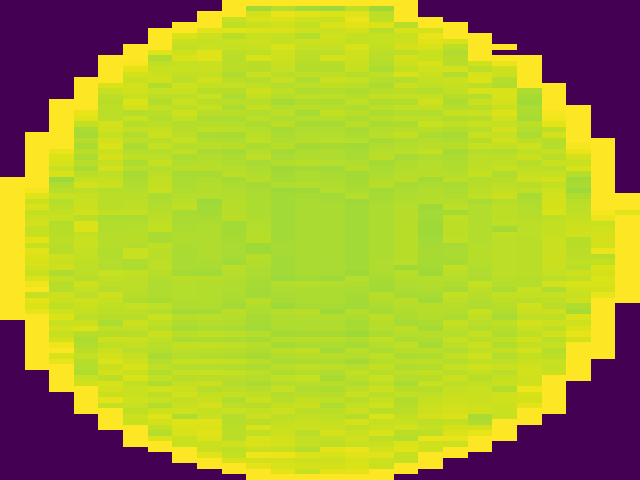sphere: (2, 2, 640, 480)
